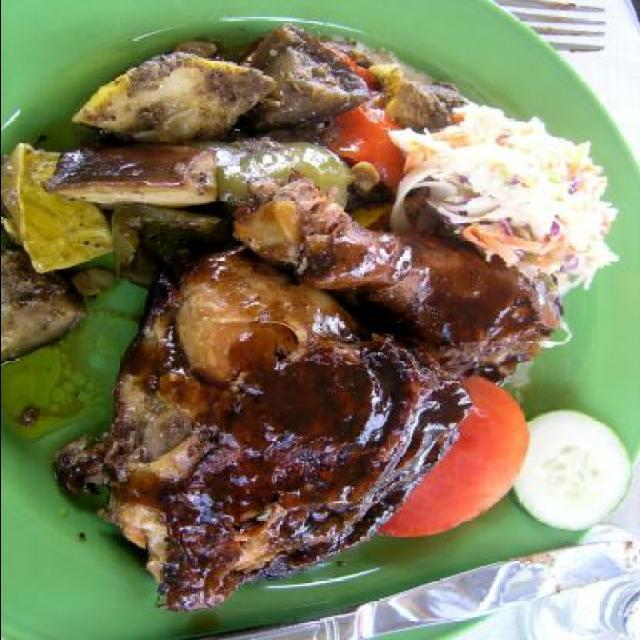Cucumber: (517, 412, 631, 546)
